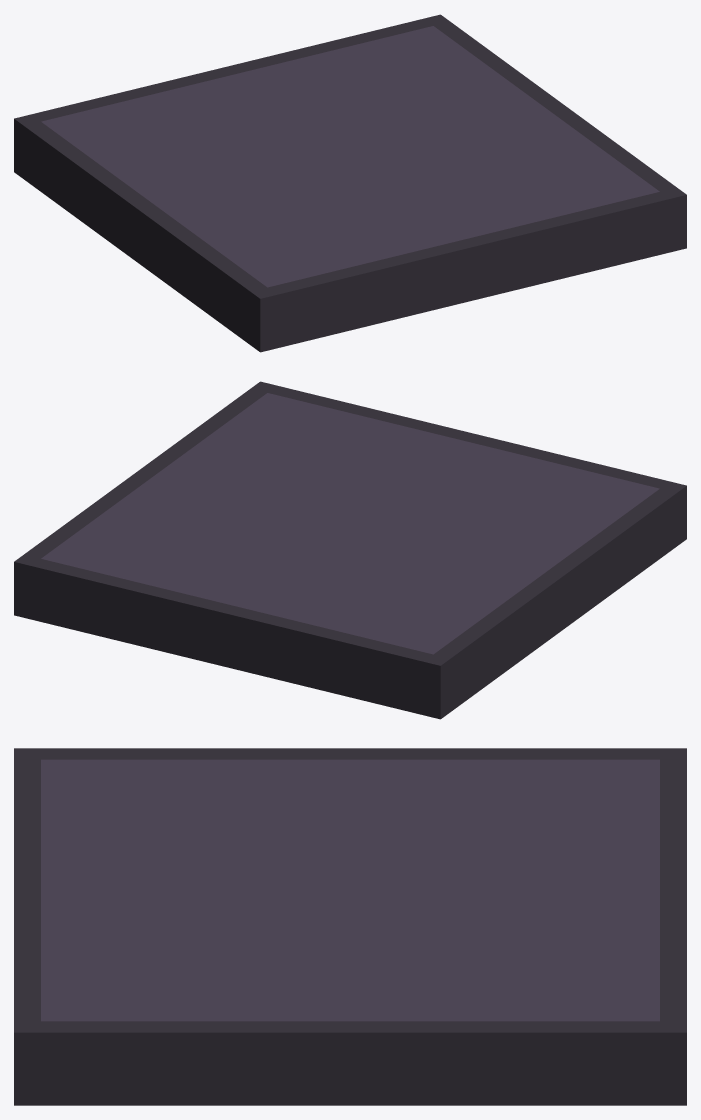
Rendered from floor1.glb.
3 views of the same model, one above another, from view 1: azimuth 30°, elevation 25°; view 2: azimuth 150°, elevation 25°; view 3: azimuth 270°, elevation 25° (orthographic). The views are drawn at different scales.
Parts seen in each view (by area): view 1: Untitled; view 2: Untitled; view 3: Untitled.
Part boxes in pixels (x1=…): Untitled: x1=14, y1=14, x2=686, y2=352; Untitled: x1=14, y1=381, x2=686, y2=719; Untitled: x1=14, y1=748, x2=686, y2=1105.
Size of the model in its own units: 2.5 by 0.3 by 2.5.
1 material, 1 textured.
